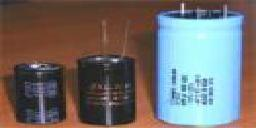Electrolytic-Capacitor: (154, 2, 245, 124), (75, 15, 139, 128), (11, 41, 68, 128)
